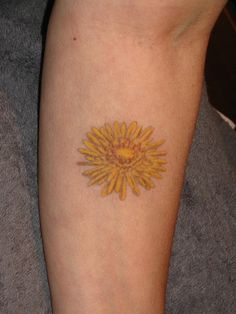dandelion: (80, 117, 171, 202)
